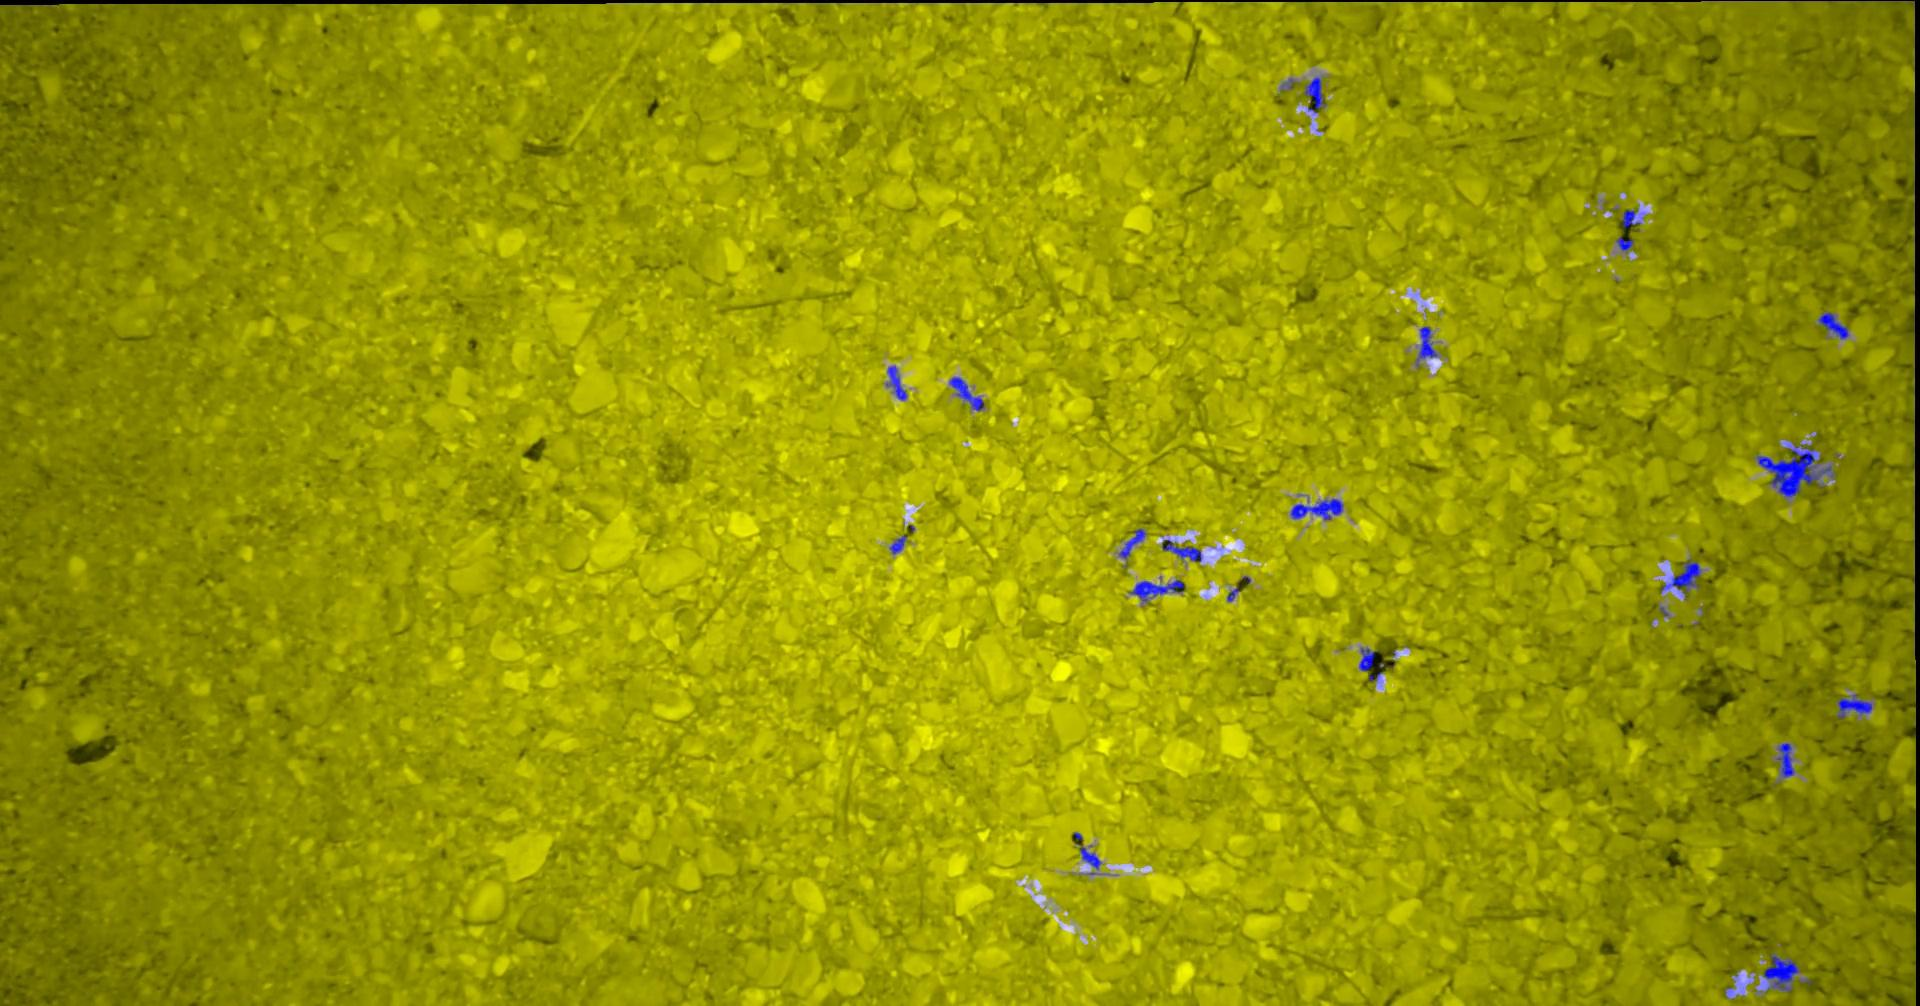ant: (1662, 559, 1702, 597), (1764, 953, 1801, 991), (1131, 579, 1186, 601), (951, 376, 985, 410), (1291, 498, 1343, 520), (1163, 539, 1203, 561), (1120, 528, 1147, 559), (1839, 694, 1873, 716), (1820, 312, 1850, 338), (1305, 76, 1327, 112), (1418, 326, 1439, 361), (888, 366, 908, 399), (1779, 742, 1796, 777), (1081, 845, 1102, 869), (1360, 647, 1377, 669), (1622, 210, 1641, 227), (891, 535, 908, 553), (1618, 236, 1636, 250)
